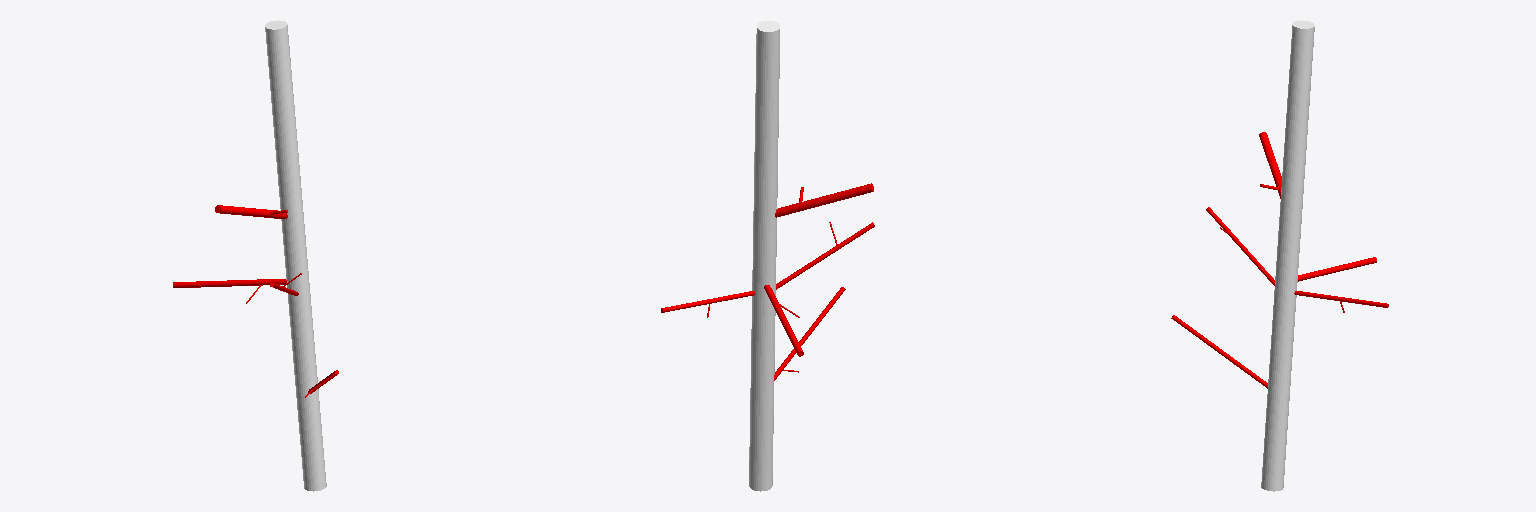
robot.urdf — tree_2.urdf:
<?xml version='1.0' encoding='UTF-8'?>
<robot name="tree_2.urdf">
  <link name="branch_0">
    <inertial>
      <origin xyz="0.0 0.0 0.0" rpy="0.0 -0.0 0.0"/>
      <mass value="0.1"/>
      <inertia ixx="0.001" ixy="0.0" ixz="0.0" iyy="0.001" iyz="0.0" izz="0.001"/>
    </inertial>
    <visual name="branch_0_visual">
      <geometry>
        <cylinder radius="0.14669384250926037" length="6.523423623507345"/>
      </geometry>
      <material name="branch_material"/>
      <origin xyz="-0.1735960583899431 0.20462024401795062 3.25065515045551" rpy="-1.3877787807814457e-17 0.0823620155605936 2.274350099570833"/>
    </visual>
    <collision name="branch_0_collision">
      <geometry>
        <cylinder radius="0.14669384250926037" length="6.523423623507345"/>
      </geometry>
      <origin xyz="-0.1735960583899431 0.20462024401795062 3.25065515045551" rpy="-1.3877787807814457e-17 0.0823620155605936 2.274350099570833"/>
    </collision>
  </link>
  <link name="branch_1">
    <inertial>
      <origin xyz="0.0 0.0 0.0" rpy="0.0 -0.0 0.0"/>
      <mass value="0.1"/>
      <inertia ixx="0.001" ixy="0.0" ixz="0.0" iyy="0.001" iyz="0.0" izz="0.001"/>
    </inertial>
    <visual name="branch_1_visual">
      <geometry>
        <cylinder radius="0.053382816799779555" length="1.4751091010208621"/>
      </geometry>
      <material name="semantic_material"/>
      <origin xyz="0.0 0.0 0.0" rpy="0.0 -0.0 0.0"/>
    </visual>
    <collision name="branch_1_collision">
      <geometry>
        <cylinder radius="0.053382816799779555" length="1.4751091010208621"/>
      </geometry>
      <origin xyz="0.0 0.0 0.0" rpy="0.0 -0.0 0.0"/>
    </collision>
  </link>
  <link name="branch_2">
    <inertial>
      <origin xyz="0.0 0.0 0.0" rpy="0.0 -0.0 0.0"/>
      <mass value="0.1"/>
      <inertia ixx="0.001" ixy="0.0" ixz="0.0" iyy="0.001" iyz="0.0" izz="0.001"/>
    </inertial>
    <visual name="branch_2_visual">
      <geometry>
        <cylinder radius="0.02041772703837498" length="0.3249468389776293"/>
      </geometry>
      <material name="semantic_material"/>
      <origin xyz="0.0 0.0 0.0" rpy="0.0 -0.0 0.0"/>
    </visual>
    <collision name="branch_2_collision">
      <geometry>
        <cylinder radius="0.02041772703837498" length="0.3249468389776293"/>
      </geometry>
      <origin xyz="0.0 0.0 0.0" rpy="0.0 -0.0 0.0"/>
    </collision>
  </link>
  <link name="branch_3">
    <inertial>
      <origin xyz="0.0 0.0 0.0" rpy="0.0 -0.0 0.0"/>
      <mass value="0.1"/>
      <inertia ixx="0.001" ixy="0.0" ixz="0.0" iyy="0.001" iyz="0.0" izz="0.001"/>
    </inertial>
    <visual name="branch_3_visual">
      <geometry>
        <cylinder radius="0.02995714786330301" length="1.6165188464660123"/>
      </geometry>
      <material name="semantic_material"/>
      <origin xyz="0.0 0.0 0.0" rpy="0.0 -0.0 0.0"/>
    </visual>
    <collision name="branch_3_collision">
      <geometry>
        <cylinder radius="0.02995714786330301" length="1.6165188464660123"/>
      </geometry>
      <origin xyz="0.0 0.0 0.0" rpy="0.0 -0.0 0.0"/>
    </collision>
  </link>
  <link name="branch_4">
    <inertial>
      <origin xyz="0.0 0.0 0.0" rpy="0.0 -0.0 0.0"/>
      <mass value="0.1"/>
      <inertia ixx="0.001" ixy="0.0" ixz="0.0" iyy="0.001" iyz="0.0" izz="0.001"/>
    </inertial>
    <visual name="branch_4_visual">
      <geometry>
        <cylinder radius="0.01" length="0.3540314883175305"/>
      </geometry>
      <material name="semantic_material"/>
      <origin xyz="0.0 0.0 0.0" rpy="0.0 -0.0 0.0"/>
    </visual>
    <collision name="branch_4_collision">
      <geometry>
        <cylinder radius="0.01" length="0.3540314883175305"/>
      </geometry>
      <origin xyz="0.0 0.0 0.0" rpy="0.0 -0.0 0.0"/>
    </collision>
  </link>
  <link name="branch_5">
    <inertial>
      <origin xyz="0.0 0.0 0.0" rpy="0.0 -0.0 0.0"/>
      <mass value="0.1"/>
      <inertia ixx="0.001" ixy="0.0" ixz="0.0" iyy="0.001" iyz="0.0" izz="0.001"/>
    </inertial>
    <visual name="branch_5_visual">
      <geometry>
        <cylinder radius="0.02945237851590074" length="1.5041838988167489"/>
      </geometry>
      <material name="semantic_material"/>
      <origin xyz="0.0 0.0 0.0" rpy="0.0 -0.0 0.0"/>
    </visual>
    <collision name="branch_5_collision">
      <geometry>
        <cylinder radius="0.02945237851590074" length="1.5041838988167489"/>
      </geometry>
      <origin xyz="0.0 0.0 0.0" rpy="0.0 -0.0 0.0"/>
    </collision>
  </link>
  <link name="branch_6">
    <inertial>
      <origin xyz="0.0 0.0 0.0" rpy="0.0 -0.0 0.0"/>
      <mass value="0.1"/>
      <inertia ixx="0.001" ixy="0.0" ixz="0.0" iyy="0.001" iyz="0.0" izz="0.001"/>
    </inertial>
    <visual name="branch_6_visual">
      <geometry>
        <cylinder radius="0.01" length="0.20735999106244396"/>
      </geometry>
      <material name="semantic_material"/>
      <origin xyz="0.0 0.0 0.0" rpy="0.0 -0.0 0.0"/>
    </visual>
    <collision name="branch_6_collision">
      <geometry>
        <cylinder radius="0.01" length="0.20735999106244396"/>
      </geometry>
      <origin xyz="0.0 0.0 0.0" rpy="0.0 -0.0 0.0"/>
    </collision>
  </link>
  <link name="branch_7">
    <inertial>
      <origin xyz="0.0 0.0 0.0" rpy="0.0 -0.0 0.0"/>
      <mass value="0.1"/>
      <inertia ixx="0.001" ixy="0.0" ixz="0.0" iyy="0.001" iyz="0.0" izz="0.001"/>
    </inertial>
    <visual name="branch_7_visual">
      <geometry>
        <cylinder radius="0.030053484090341337" length="1.7182934467129856"/>
      </geometry>
      <material name="semantic_material"/>
      <origin xyz="0.0 0.0 0.0" rpy="0.0 -0.0 0.0"/>
    </visual>
    <collision name="branch_7_collision">
      <geometry>
        <cylinder radius="0.030053484090341337" length="1.7182934467129856"/>
      </geometry>
      <origin xyz="0.0 0.0 0.0" rpy="0.0 -0.0 0.0"/>
    </collision>
  </link>
  <link name="branch_8">
    <inertial>
      <origin xyz="0.0 0.0 0.0" rpy="0.0 -0.0 0.0"/>
      <mass value="0.1"/>
      <inertia ixx="0.001" ixy="0.0" ixz="0.0" iyy="0.001" iyz="0.0" izz="0.001"/>
    </inertial>
    <visual name="branch_8_visual">
      <geometry>
        <cylinder radius="0.01" length="0.2288617946289164"/>
      </geometry>
      <material name="semantic_material"/>
      <origin xyz="0.0 0.0 0.0" rpy="0.0 -0.0 0.0"/>
    </visual>
    <collision name="branch_8_collision">
      <geometry>
        <cylinder radius="0.01" length="0.2288617946289164"/>
      </geometry>
      <origin xyz="0.0 0.0 0.0" rpy="0.0 -0.0 0.0"/>
    </collision>
  </link>
  <link name="branch_9">
    <inertial>
      <origin xyz="0.0 0.0 0.0" rpy="0.0 -0.0 0.0"/>
      <mass value="0.1"/>
      <inertia ixx="0.001" ixy="0.0" ixz="0.0" iyy="0.001" iyz="0.0" izz="0.001"/>
    </inertial>
    <visual name="branch_9_visual">
      <geometry>
        <cylinder radius="0.03983048378997996" length="1.6784094919032022"/>
      </geometry>
      <material name="semantic_material"/>
      <origin xyz="0.0 0.0 0.0" rpy="0.0 -0.0 0.0"/>
    </visual>
    <collision name="branch_9_collision">
      <geometry>
        <cylinder radius="0.03983048378997996" length="1.6784094919032022"/>
      </geometry>
      <origin xyz="0.0 0.0 0.0" rpy="0.0 -0.0 0.0"/>
    </collision>
  </link>
  <link name="branch_10">
    <inertial>
      <origin xyz="0.0 0.0 0.0" rpy="0.0 -0.0 0.0"/>
      <mass value="0.1"/>
      <inertia ixx="0.001" ixy="0.0" ixz="0.0" iyy="0.001" iyz="0.0" izz="0.001"/>
    </inertial>
    <visual name="branch_10_visual">
      <geometry>
        <cylinder radius="0.01" length="0.3722672843471652"/>
      </geometry>
      <material name="semantic_material"/>
      <origin xyz="0.0 0.0 0.0" rpy="0.0 -0.0 0.0"/>
    </visual>
    <collision name="branch_10_collision">
      <geometry>
        <cylinder radius="0.01" length="0.3722672843471652"/>
      </geometry>
      <origin xyz="0.0 0.0 0.0" rpy="0.0 -0.0 0.0"/>
    </collision>
  </link>
  <joint name="joint_0_1" type="fixed">
    <parent link="branch_0"/>
    <child link="branch_1"/>
    <axis xyz="1. 0. 0."/>
    <origin xyz="-0.8634540289895578 0.05925786976234829 4.089203453376989" rpy="0.19970032318178457 1.179618880116844 -2.65860262982422"/>
  </joint>
  <joint name="joint_0_3" type="fixed">
    <parent link="branch_0"/>
    <child link="branch_3"/>
    <axis xyz="1. 0. 0."/>
    <origin xyz="-0.637889604104423 -0.33574445782243995 3.092590847518311" rpy="0.16636897996372024 1.0564031188377139 -2.153596191765862"/>
  </joint>
  <joint name="joint_0_5" type="fixed">
    <parent link="branch_0"/>
    <child link="branch_5"/>
    <axis xyz="1. 0. 0."/>
    <origin xyz="0.19677663488542982 0.8398995256358974 2.809850483275085" rpy="-0.7981220347477977 1.4640722007028872 0.29356667197458425"/>
  </joint>
  <joint name="joint_0_7" type="fixed">
    <parent link="branch_0"/>
    <child link="branch_7"/>
    <axis xyz="1. 0. 0."/>
    <origin xyz="-0.24928567871839805 -0.61060477372674 1.7865559633130235" rpy="0.11740896001720758 0.9805343988945168 -1.6827997613428751"/>
  </joint>
  <joint name="joint_0_9" type="fixed">
    <parent link="branch_0"/>
    <child link="branch_9"/>
    <axis xyz="1. 0. 0."/>
    <origin xyz="-0.7492674360324105 0.7612560252030202 2.771035257815373" rpy="3.0891951050984603 1.4222952422803745 -0.8250516712488031"/>
  </joint>
  <joint name="joint_1_2" type="fixed">
    <parent link="branch_0"/>
    <child link="branch_2"/>
    <axis xyz="1. 0. 0."/>
    <origin xyz="-0.5687802041402067 -0.01463951968310031 4.052050337953528" rpy="1.1632977281180483 0.3833856908254742 0.2684310646224217"/>
  </joint>
  <joint name="joint_3_4" type="fixed">
    <parent link="branch_0"/>
    <child link="branch_4"/>
    <axis xyz="1. 0. 0."/>
    <origin xyz="-0.7006545626651088 -0.592516126922378 3.3404245353929327" rpy="0.81507114284395 0.3406022876444385 0.5875987684253151"/>
  </joint>
  <joint name="joint_5_6" type="fixed">
    <parent link="branch_0"/>
    <child link="branch_6"/>
    <axis xyz="1. 0. 0."/>
    <origin xyz="0.21498796520042499 0.9072892904356044 2.7141057551471692" rpy="2.991174765189193 0.27173835490000087 -2.076832466047515"/>
  </joint>
  <joint name="joint_7_8" type="fixed">
    <parent link="branch_0"/>
    <child link="branch_8"/>
    <axis xyz="1. 0. 0."/>
    <origin xyz="-0.24706659122999183 -0.28062017835656766 1.5080803338702393" rpy="-1.7336077821043272 0.8002750807088943 1.9850415155571257"/>
  </joint>
  <joint name="joint_9_10" type="fixed">
    <parent link="branch_0"/>
    <child link="branch_10"/>
    <axis xyz="1. 0. 0."/>
    <origin xyz="-0.6405516280322753 0.45717944584742365 2.730747468869721" rpy="2.1077469462542906 0.10340320345075951 -1.1922533211203639"/>
  </joint>
  <material name="branch_material">
    <color rgba="1. 1. 1. 1."/>
  </material>
  <material name="semantic_material">
    <color rgba="1. 0. 0. 1."/>
  </material>
</robot>

--- What the picture shows (computed from the rendered views, not written in the file) ---
Views: 3 orthographic renders of the robot side by side, from view 1: azimuth 30°, elevation 25°; view 2: azimuth 150°, elevation 25°; view 3: azimuth 270°, elevation 25°.
Robot: tree_2.urdf — 11 links, 10 joints (10 fixed); root link branch_0; default pose: all joints at 0.
Visible links, largest first — view 1: branch_0, branch_9, branch_1; view 2: branch_0, branch_1, branch_3, branch_9; view 3: branch_0, branch_7.
Link boxes in pixels (x1,y1,x2,y2): branch_0: (265, 20, 326, 491); branch_9: (173, 279, 286, 287); branch_1: (215, 205, 287, 218); branch_0: (749, 20, 779, 491); branch_1: (775, 183, 873, 217); branch_3: (776, 222, 874, 289); branch_9: (764, 285, 803, 356); branch_0: (1261, 20, 1314, 491); branch_7: (1171, 315, 1267, 388).
Size in the robot's own frame: 2.11 by 2.84 by 6.53 metres.
Geometry: primitives only (box / cylinder / sphere), no mesh files.